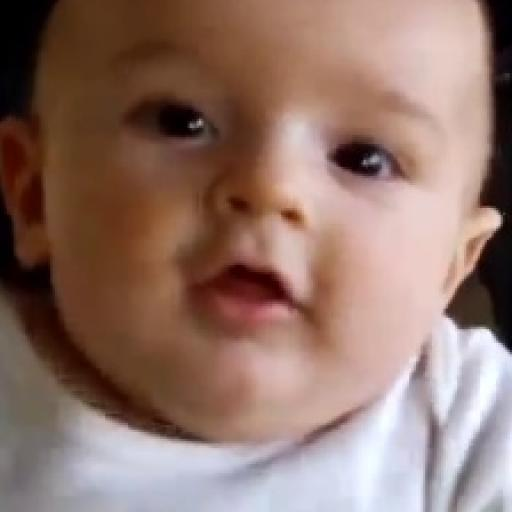Autism: (73, 10, 508, 430)
